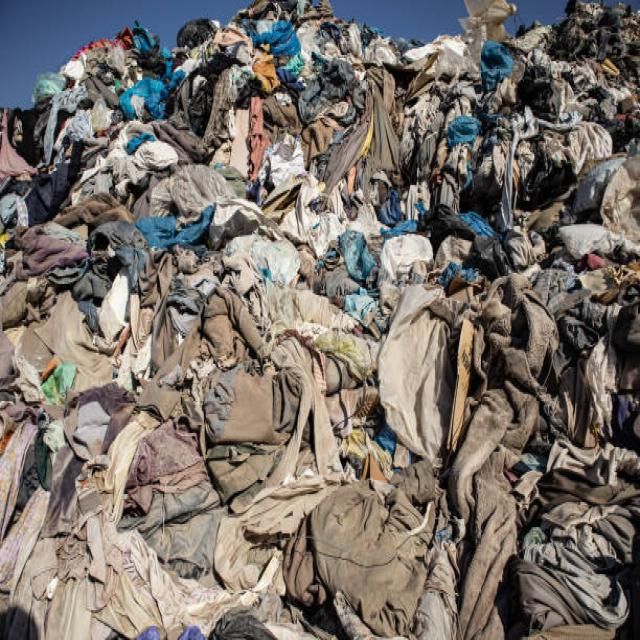trash: (13, 41, 599, 593)
